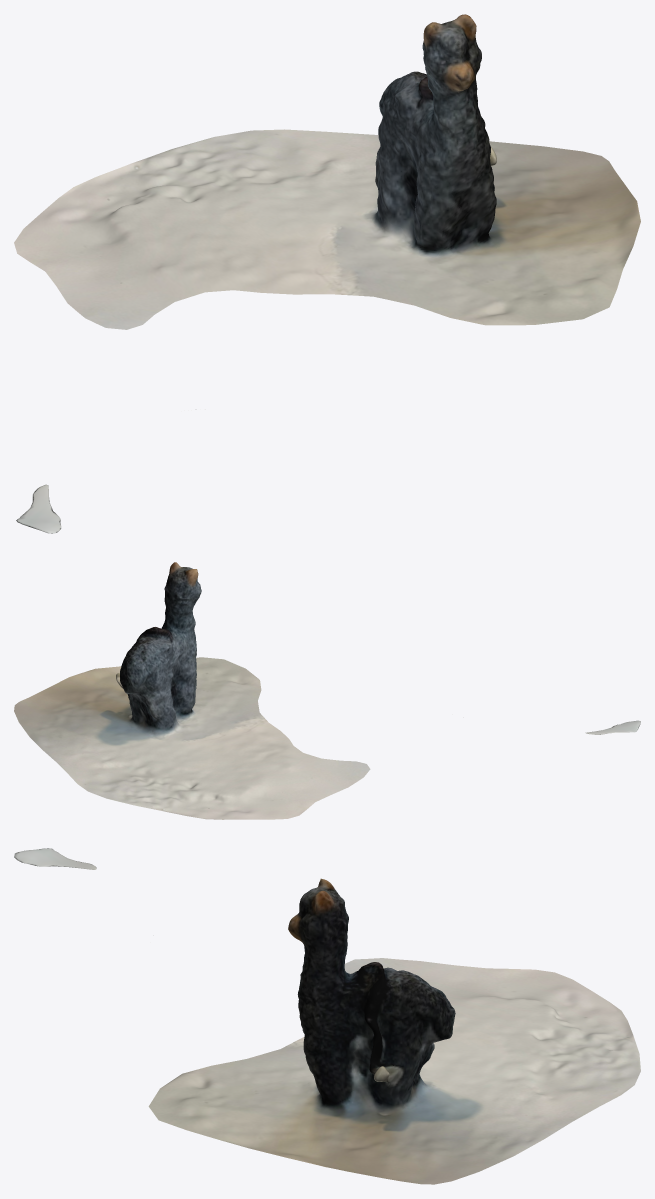
Rendered from lama.glb.
The picture shows the model from 3 angles, top to bottom: view 1: azimuth 30°, elevation 25°; view 2: azimuth 150°, elevation 25°; view 3: azimuth 270°, elevation 25°; orthographic projection. The views are drawn at different scales.
Parts seen in each view (by area): view 1: Object_2, Object_3; view 2: Object_2, Object_3; view 3: Object_2, Object_3.
Part boxes in pixels (x1,y1,x2,y2): Object_2: (14,14,640,533); Object_3: (117,22,464,329); Object_2: (14,562,640,819); Object_3: (120,567,368,766); Object_2: (14,848,640,1184); Object_3: (302,878,455,1097).
Bounding box in the file's own units: 0.4751 × 0.1402 × 0.3664.
Materials: 1 (1 with a texture image).
